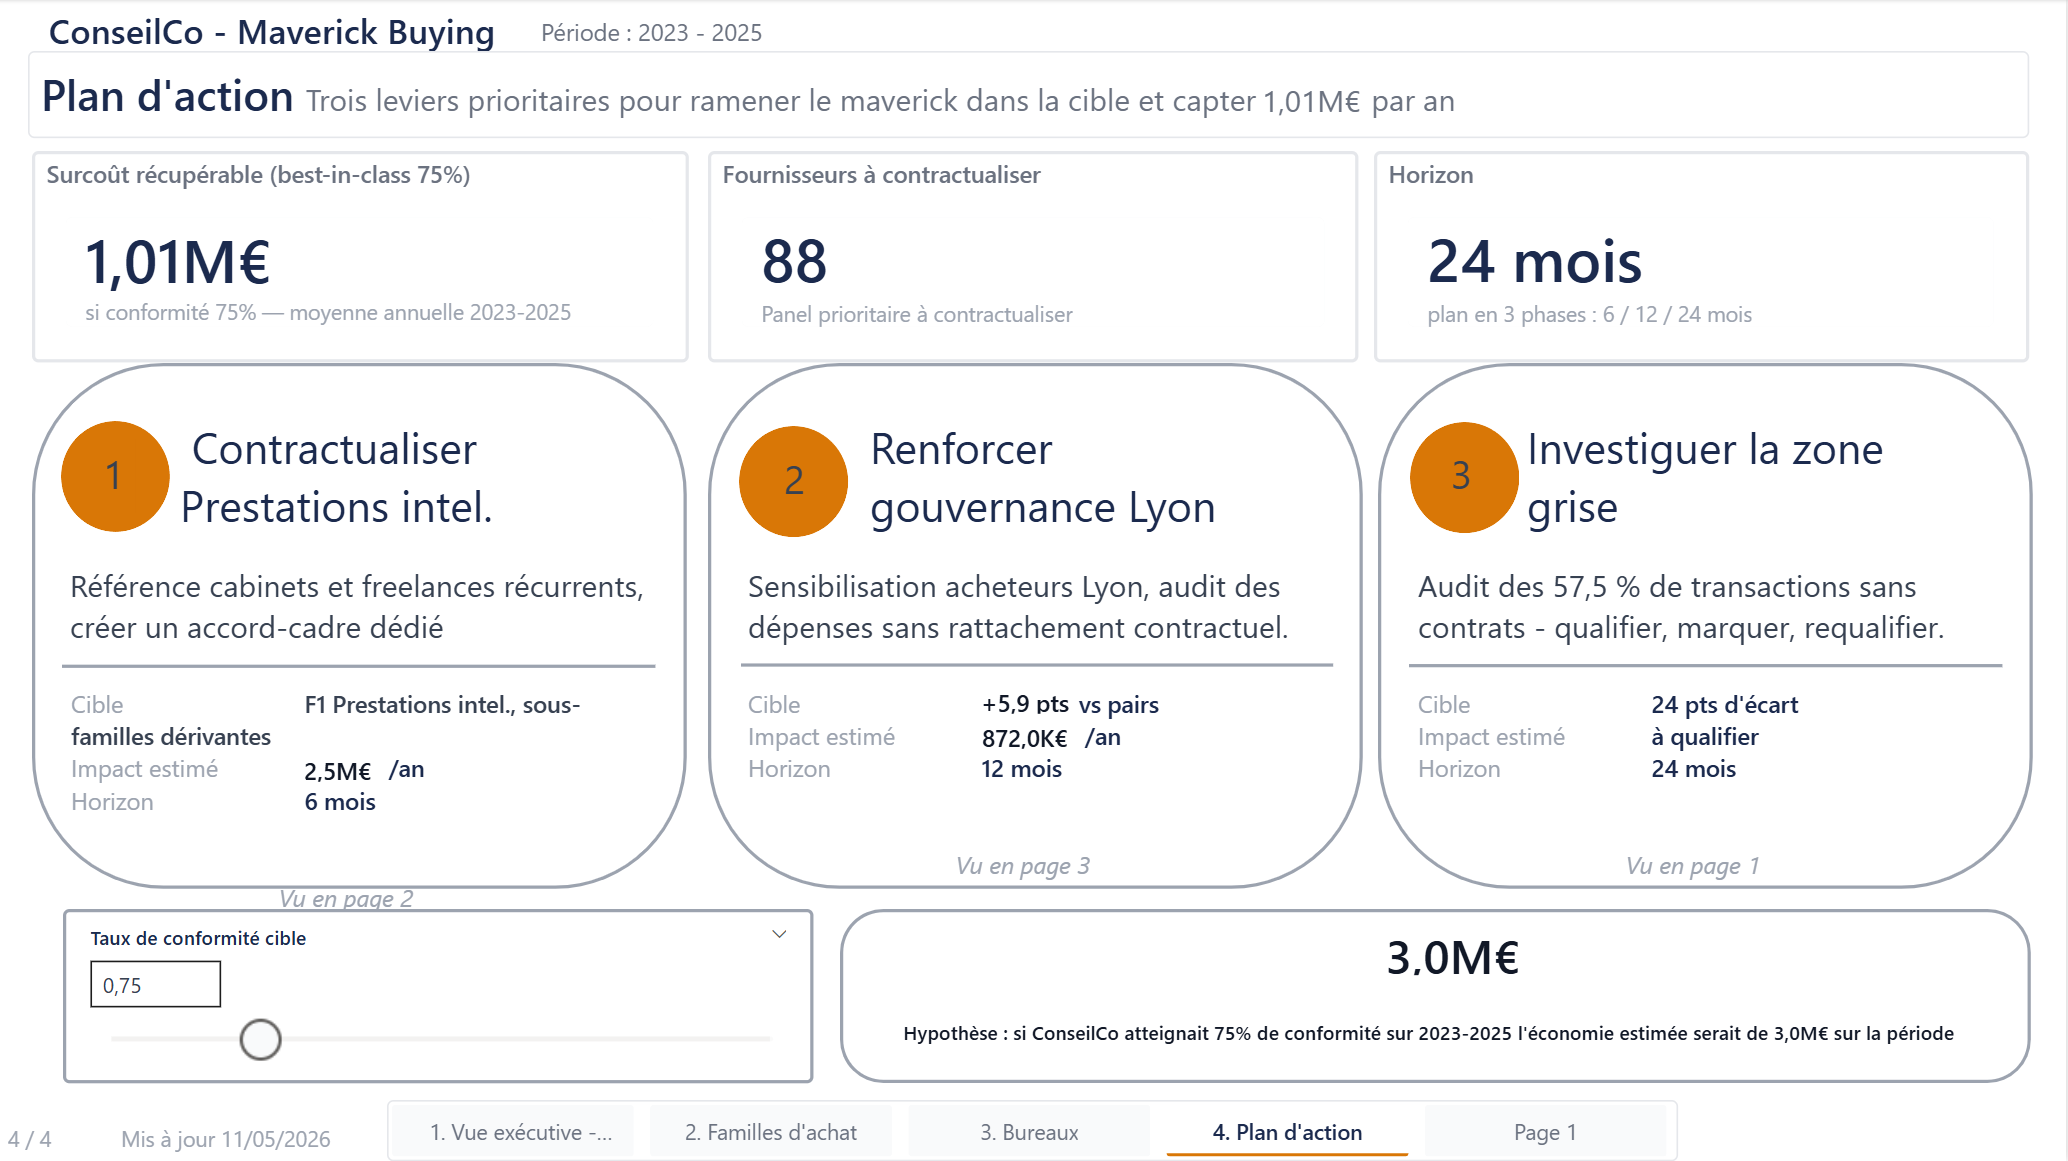

Layout of this report page (visuals, bound fields, positions):
{"tool":"powerbi","page":{"name":"4. Plan d'action ","canvas":[1280,720],"ordinal":3},"visuals":[{"type":"shape","box":[520.2,564.1,737.8,107.8],"z":0},{"type":"shape","box":[853.9,225.7,405.7,325.7],"z":1000},{"type":"shape","box":[438.4,225.7,405.7,325.7],"z":2000},{"type":"shape","box":[19.6,225.7,405.7,325.7],"z":3000},{"type":"textbox","box":[20,0,303.5,42.9],"z":4000},{"type":"textbox","box":[323.5,0,160.7,42.9],"z":5000},{"type":"textbox","box":[0,690,69.2,30],"z":6000},{"type":"pageNavigator","box":[240,682.5,800,38],"z":7000},{"type":"textbox","box":[17.5,32.5,1240,53.8],"z":8000},{"type":"cardVisual","title":"Fournisseurs à contractualiser","fields":{"Data":["Mesures.Fournisseurs à contractualiser"]},"box":[438.9,94.2,403.3,131],"z":9000},{"type":"cardVisual","title":"Horizon","fields":{"Data":["Mesures.Horizon plan lib"]},"box":[851.4,94.2,405.6,131],"z":10000},{"type":"cardVisual","title":"Surcoût récupérable (best-in-class 75%)","fields":{"Data":["Mesures.Surcoût récupérable best-in-class"]},"box":[19.5,94.2,406.8,131],"z":11000},{"type":"textbox","box":[106.8,254.3,278.6,91.4],"z":12000},{"type":"shape","box":[37.5,261.2,67.5,68.8],"z":13000},{"type":"textbox","box":[58.8,272.6,25.3,46.3],"z":14000},{"type":"shape","box":[458.1,264.7,67.7,68.9],"z":15000},{"type":"textbox","box":[480.8,275.9,22.7,45.9],"z":16000},{"type":"shape","box":[873.5,262.2,67.8,68.9],"z":17000},{"type":"textbox","box":[894.3,272.5,25.6,46.2],"z":18000},{"type":"textbox","box":[534.1,254.3,278.6,91.4],"z":19000},{"type":"textbox","box":[941.1,254.3,264.3,91.4],"z":20000},{"type":"textbox","box":[38.2,345.7,368.6,77.1],"z":21000},{"type":"textbox","box":[458.4,345.7,368.6,77.1],"z":22000},{"type":"textbox","box":[873.9,345.7,368.6,77.1],"z":23000},{"type":"shape","box":[38.7,404.6,367.7,17.7],"z":24000},{"type":"shape","box":[458.9,404.6,366.9,16.2],"z":25000},{"type":"shape","box":[873.3,404.6,367.7,16.9],"z":26000},{"type":"textbox","box":[38.8,421.2,368.8,150],"z":27000},{"type":"textbox","box":[458.8,421.2,373.8,131.2],"z":28000},{"type":"textbox","box":[873.8,421.2,373.8,131.2],"z":29000},{"type":"cardVisual","fields":{"Data":["Mesures.Impact gouvernance Lyon"]},"box":[603.6,443.6,70,26.4],"z":30000},{"type":"cardVisual","fields":{"Data":["Mesures.Impact contractualisation F1"]},"box":[183.6,464.1,65.5,26.4],"z":31000},{"type":"slicer","fields":{"Values":["Taux de conformité cible.Taux de conformité cible"]},"box":[38.9,564.1,465.3,107.8],"z":32000},{"type":"cardVisual","fields":{"Data":["Mesures.Économie simulée what-if"]},"box":[834.7,564.1,145.8,53.9],"z":33000},{"type":"cardVisual","fields":{"Data":["Mesures.Simulation lib"]},"box":[547.5,617.5,692.5,51.2],"z":34000},{"type":"textbox","box":[70,695.3,156.5,24.7],"z":35000},{"type":"cardVisual","fields":{"Data":["Mesures.Surperformance Lyon pts lib"]},"box":[603,422,70,26],"z":36000},{"type":"cardVisual","fields":{"Data":["Mesures.Surcoût récupérable best-in-class /3"]},"box":[777,45.2,83,32],"z":36001}]}

Visuals, with their boxes on the page's 1280x720 design canvas (x1, y1, x2, y2). These are canvas units, not pixel positions in the 2068x1161 screenshot, which may show the page scaled, cropped or inside an application window:
shape: <bbox>520, 564, 1258, 672</bbox>
shape: <bbox>854, 226, 1260, 551</bbox>
shape: <bbox>438, 226, 844, 551</bbox>
shape: <bbox>20, 226, 425, 551</bbox>
textbox: <bbox>20, 0, 324, 43</bbox>
textbox: <bbox>324, 0, 484, 43</bbox>
textbox: <bbox>0, 690, 69, 720</bbox>
pageNavigator: <bbox>240, 682, 1040, 720</bbox>
textbox: <bbox>18, 32, 1258, 86</bbox>
"Fournisseurs à contractualiser" cardVisual: <bbox>439, 94, 842, 225</bbox>
"Horizon" cardVisual: <bbox>851, 94, 1257, 225</bbox>
"Surcoût récupérable (best-in-class 75%)" cardVisual: <bbox>20, 94, 426, 225</bbox>
textbox: <bbox>107, 254, 385, 346</bbox>
shape: <bbox>38, 261, 105, 330</bbox>
textbox: <bbox>59, 273, 84, 319</bbox>
shape: <bbox>458, 265, 526, 334</bbox>
textbox: <bbox>481, 276, 504, 322</bbox>
shape: <bbox>874, 262, 941, 331</bbox>
textbox: <bbox>894, 272, 920, 319</bbox>
textbox: <bbox>534, 254, 813, 346</bbox>
textbox: <bbox>941, 254, 1205, 346</bbox>
textbox: <bbox>38, 346, 407, 423</bbox>
textbox: <bbox>458, 346, 827, 423</bbox>
textbox: <bbox>874, 346, 1242, 423</bbox>
shape: <bbox>39, 405, 406, 422</bbox>
shape: <bbox>459, 405, 826, 421</bbox>
shape: <bbox>873, 405, 1241, 422</bbox>
textbox: <bbox>39, 421, 408, 571</bbox>
textbox: <bbox>459, 421, 833, 552</bbox>
textbox: <bbox>874, 421, 1248, 552</bbox>
cardVisual - Mesures.Impact gouvernance Lyon: <bbox>604, 444, 674, 470</bbox>
cardVisual - Mesures.Impact contractualisation F1: <bbox>184, 464, 249, 490</bbox>
slicer - Taux de conformité cible.Taux de conformité cible: <bbox>39, 564, 504, 672</bbox>
cardVisual - Mesures.Économie simulée what-if: <bbox>835, 564, 980, 618</bbox>
cardVisual - Mesures.Simulation lib: <bbox>548, 618, 1240, 669</bbox>
textbox: <bbox>70, 695, 226, 720</bbox>
cardVisual - Mesures.Surperformance Lyon pts lib: <bbox>603, 422, 673, 448</bbox>
cardVisual - Mesures.Surcoût récupérable best-in-class /3: <bbox>777, 45, 860, 77</bbox>
